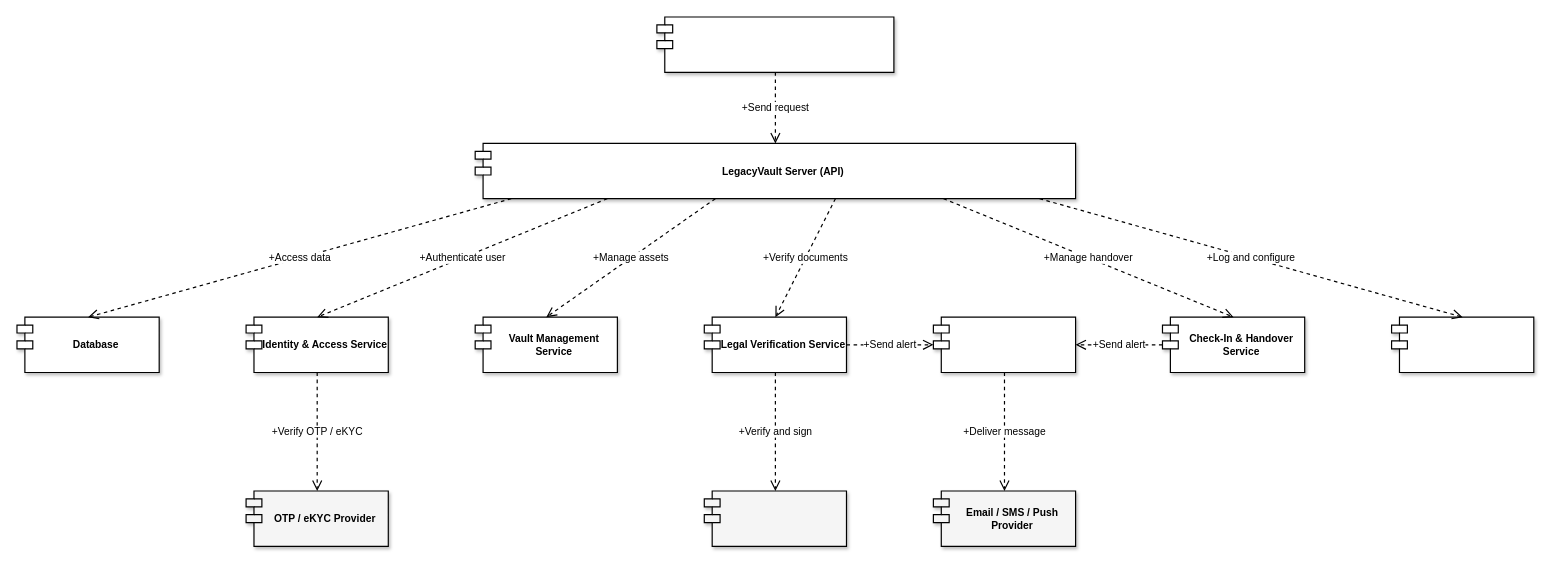
The diagram is 1553 pixels wide and 566 high, and some of its shapes have lost their labels. Here are the shapes that lost their labels. From the top down, the centre of each, then its label:
(x=776, y=45): Web Application
(x=1005, y=345): Notification Service
(x=1463, y=345): Audit & Administration Service
(x=775, y=519): Digital Signature / e-Notary Service
